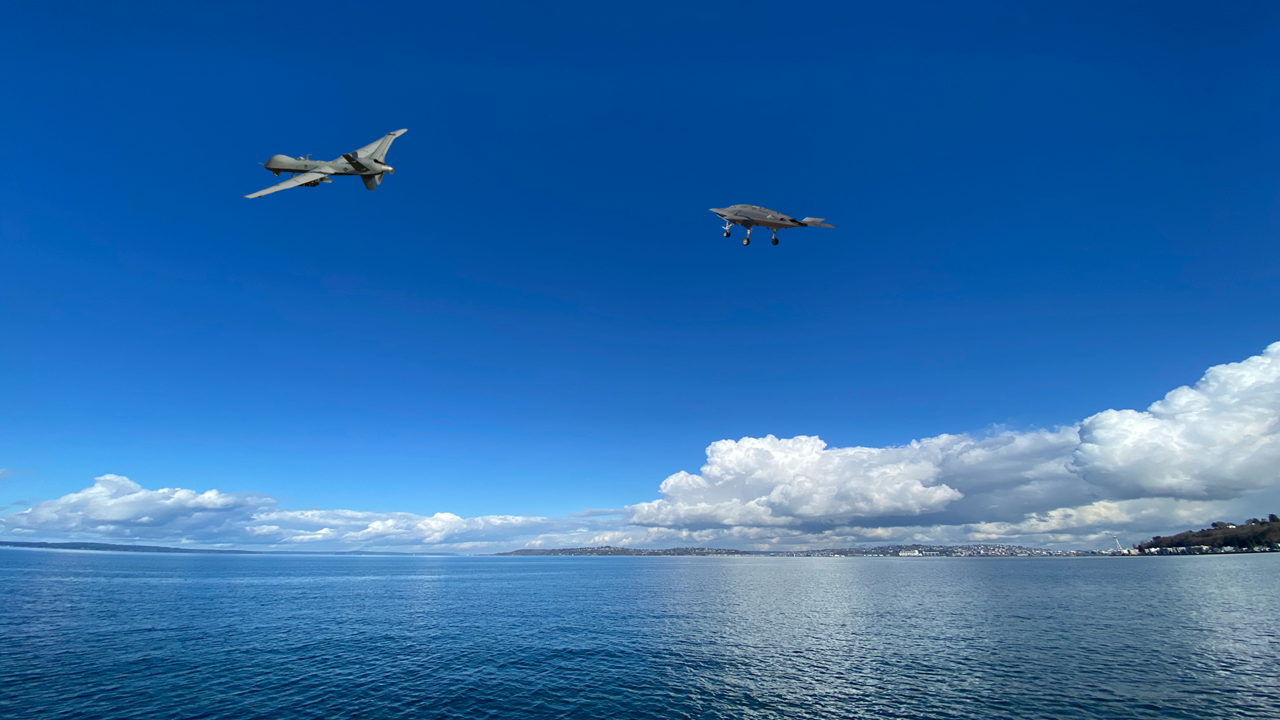military drone: (243, 128, 408, 199), (708, 203, 835, 246)
